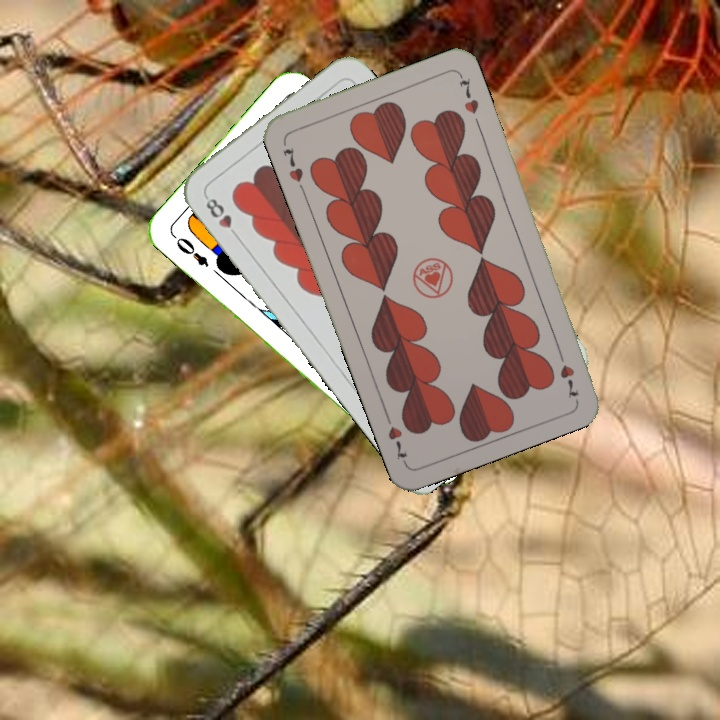EO: (168, 230, 211, 270)
H7: (554, 345, 582, 401), (278, 143, 308, 195)
H8: (201, 191, 242, 242)
